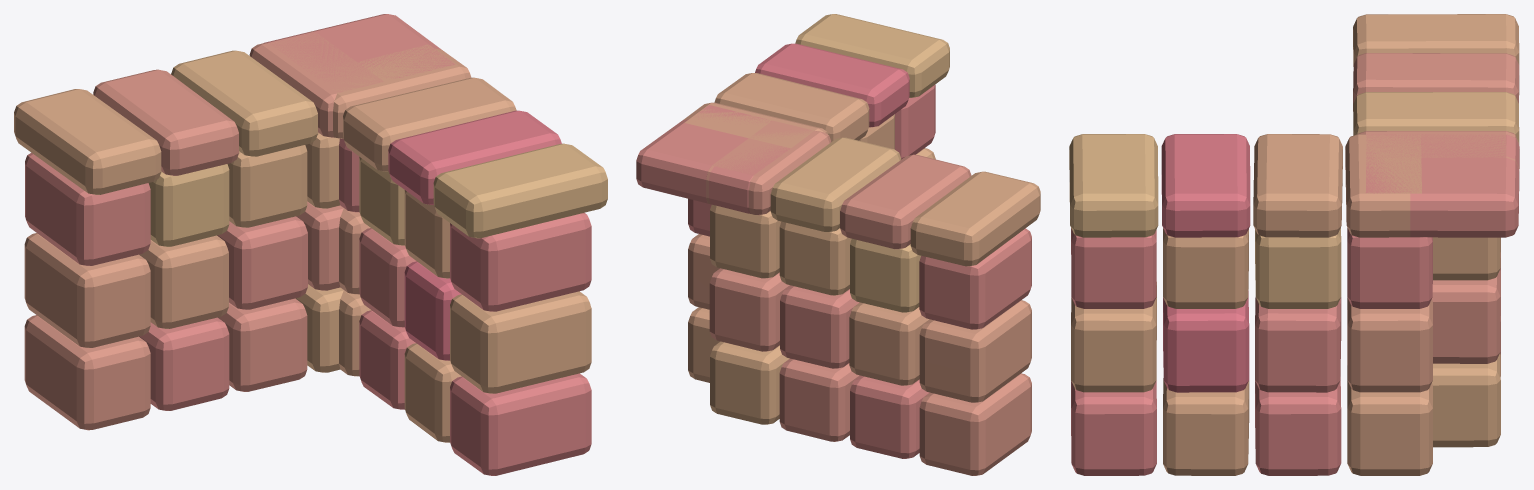
Rendered from WC_RIVER_Bank_Inner_A.glb.
3 renders of one model, left to right at view 1: azimuth 30°, elevation 25°; view 2: azimuth 150°, elevation 25°; view 3: azimuth 270°, elevation 25°, orthographic. The views are drawn at different scales.
Parts seen in each view (by area): view 1: WC_RIVER_Bank_Inner_A_RenderMesh; view 2: WC_RIVER_Bank_Inner_A_RenderMesh; view 3: WC_RIVER_Bank_Inner_A_RenderMesh.
Part boxes in pixels (x1,y1,x2,y2): WC_RIVER_Bank_Inner_A_RenderMesh: (14,14,607,475); WC_RIVER_Bank_Inner_A_RenderMesh: (636,14,1040,475); WC_RIVER_Bank_Inner_A_RenderMesh: (1069,14,1519,475).
Size of the model in its own units: 1.22 by 0.8675 by 1.22.
